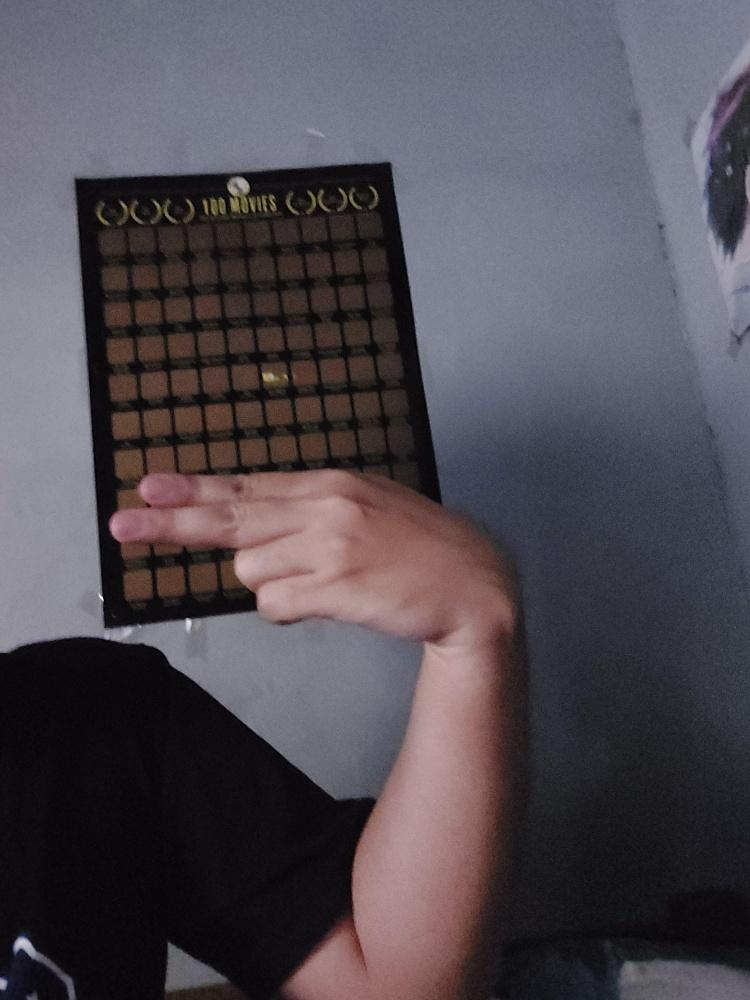h: (108, 458, 535, 644)
